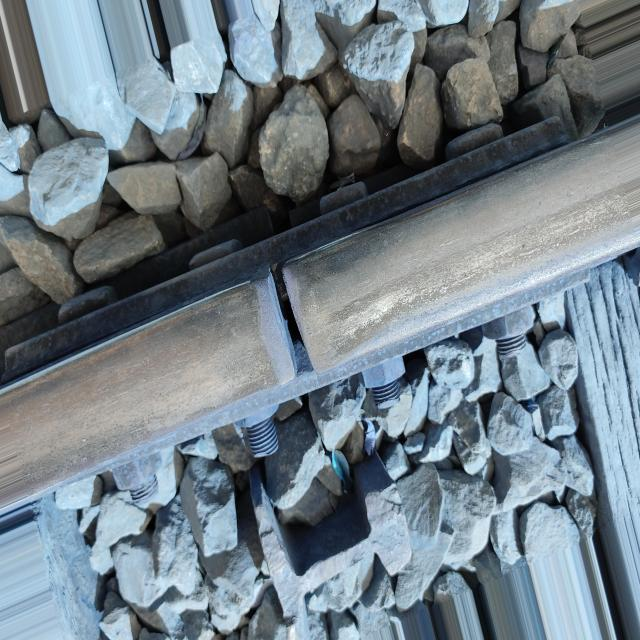crack: (246, 259, 336, 404)
